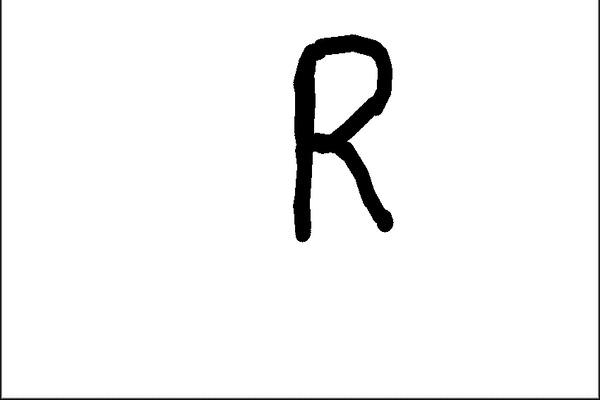R: (277, 24, 410, 246)
